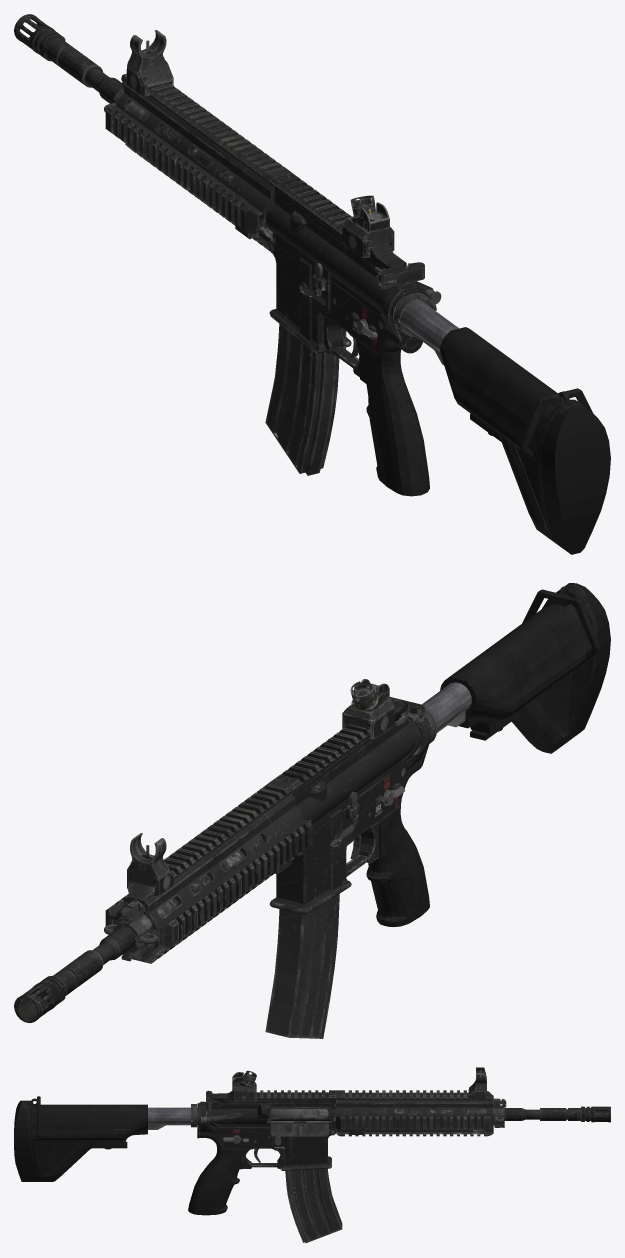
Rendered from rifle_m416.glb.
The picture shows the model from 3 angles, top to bottom: view 1: azimuth 30°, elevation 25°; view 2: azimuth 150°, elevation 25°; view 3: azimuth 270°, elevation 25°; orthographic projection. The views are drawn at different scales.
Visible parts, largest first — view 1: body, mag; view 2: body, mag; view 3: body, mag.
Boxes of the visible parts, box(x1,y1,x2,y2) form: body: box(14, 14, 610, 554); mag: box(265, 308, 351, 475); body: box(14, 583, 610, 1038); mag: box(265, 878, 351, 1038); body: box(14, 1067, 610, 1232); mag: box(277, 1156, 342, 1243).
Bounding box in the file's own units: 0.0686 × 0.2652 × 0.84.
Materials: 5 (5 with a texture image).
